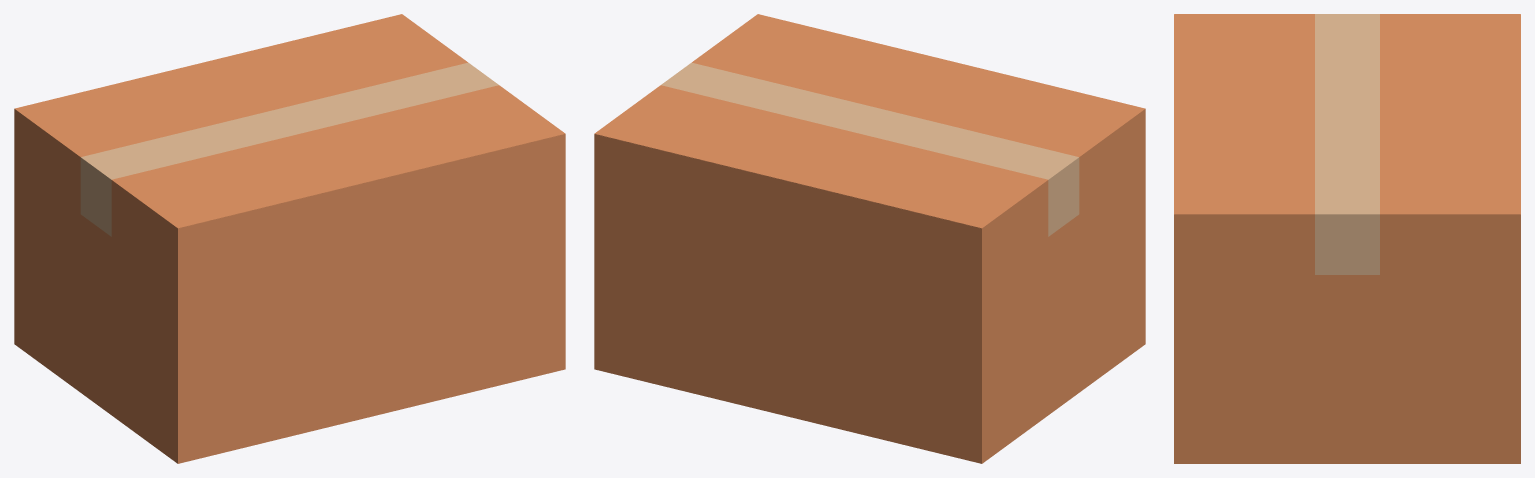
File: Packing Box.fbx
3 renders of one model, left to right at view 1: azimuth 30°, elevation 25°; view 2: azimuth 150°, elevation 25°; view 3: azimuth 270°, elevation 25°, orthographic. The views are drawn at different scales.
Visible parts, largest first — view 1: Box_Main, Box_Flap_1, Box_Flap_2; view 2: Box_Main, Box_Flap_2, Box_Flap_1; view 3: Box_Main, Box_Flap_1, Box_Flap_2.
Boxes of the visible parts, x1,y1,x2,y2 form: Box_Main: (14, 109, 565, 463); Box_Flap_1: (96, 74, 565, 228); Box_Flap_2: (14, 14, 483, 169); Box_Main: (594, 109, 1145, 463); Box_Flap_2: (594, 74, 1063, 229); Box_Flap_1: (676, 14, 1145, 168); Box_Main: (1174, 14, 1520, 463); Box_Flap_1: (1174, 14, 1347, 216); Box_Flap_2: (1347, 14, 1520, 216).
Bounding box in the file's own units: 98.52 × 57.19 × 72.03.
